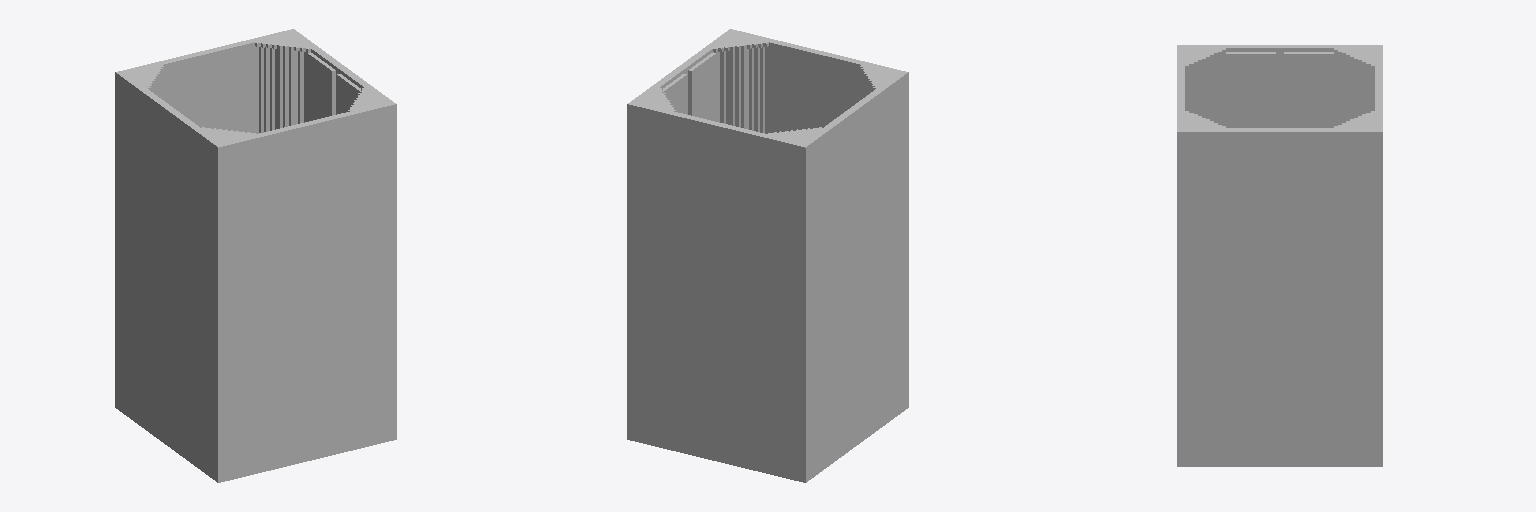
Rendered from трубка скин 1.obj.
The picture shows the model from 3 angles: view 1: azimuth 30°, elevation 25°; view 2: azimuth 150°, elevation 25°; view 3: azimuth 270°, elevation 25°; orthographic projection.
Visible parts, largest first — view 1: object 1; view 2: object 1; view 3: object 1.
Boxes of the visible parts, box(x1,y1,x2,y2) form: object 1: box(115, 29, 396, 482); object 1: box(627, 29, 908, 482); object 1: box(1177, 45, 1382, 466).
Bounding box in the file's own units: 5 × 9 × 5.